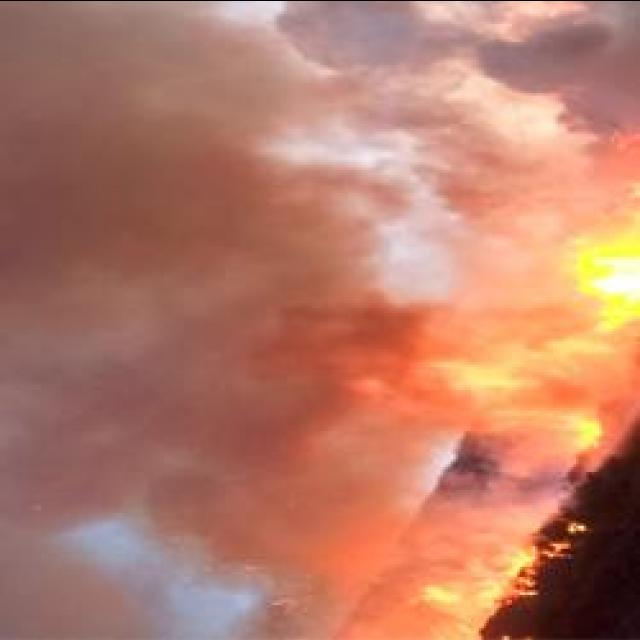fire: (576, 246, 640, 320)
smoke: (269, 0, 640, 148), (0, 355, 258, 557), (268, 288, 562, 434), (279, 514, 453, 640)
